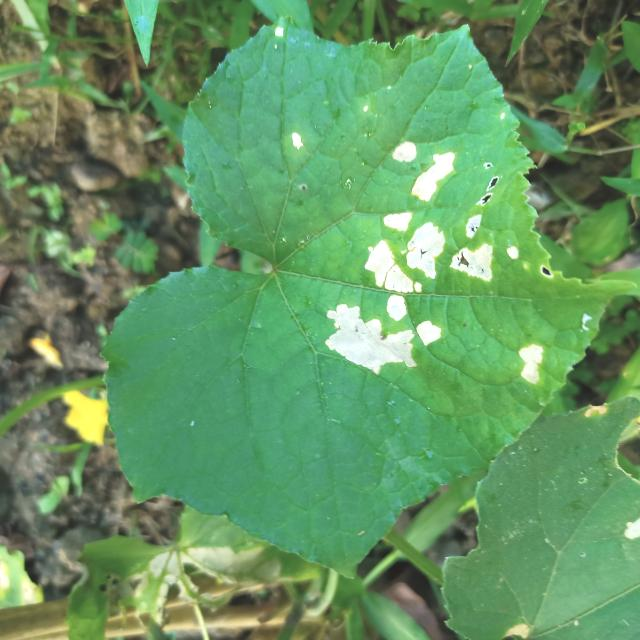disease_cucumber: (318, 130, 504, 379), (512, 331, 552, 388), (278, 130, 310, 156)
